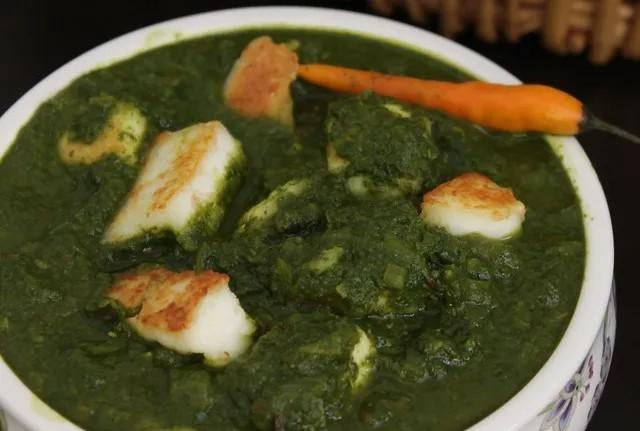PalakPaneer: (0, 29, 585, 431)
